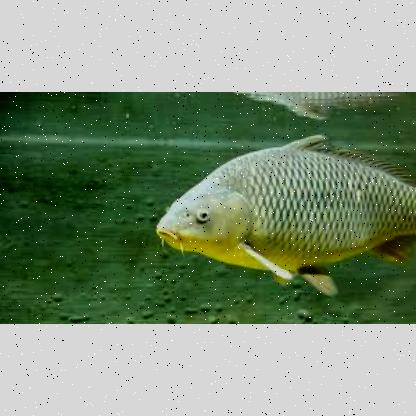ikan-mas: (158, 135, 416, 293)
